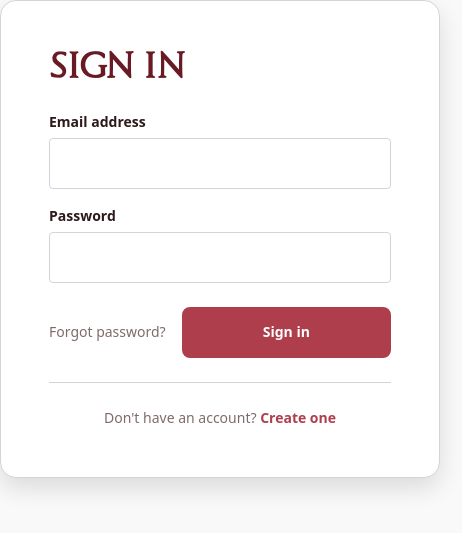
Test case: LoginPage — client-side validation › shows an error when password is empty on submit
Step 1. Type "user@example.com" into the field labelled "Email address" → [220, 164], box [49,138,391,189]
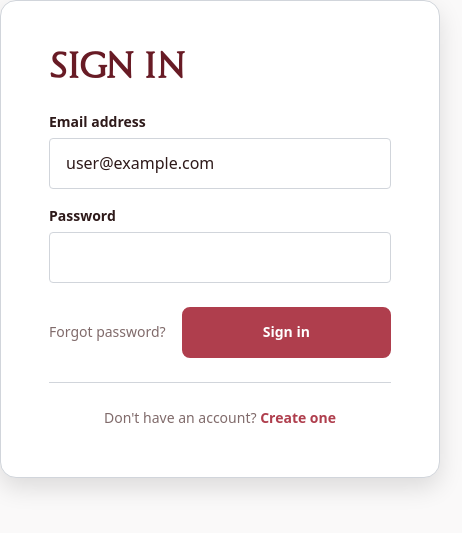
Step 2. Click the button "Sign in" → [286, 333], box [182,307,391,358]
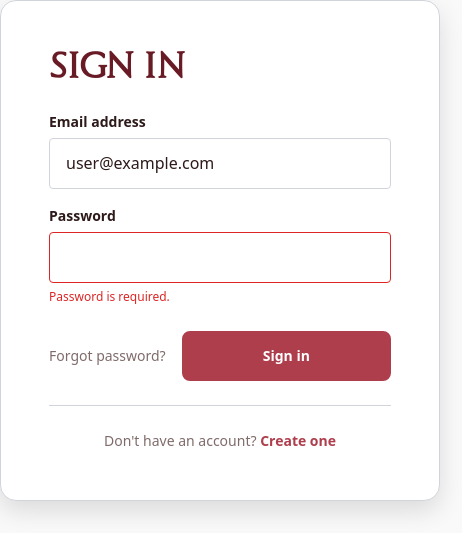
Expected: the message shows "Password is required", [49,288,170,305]
